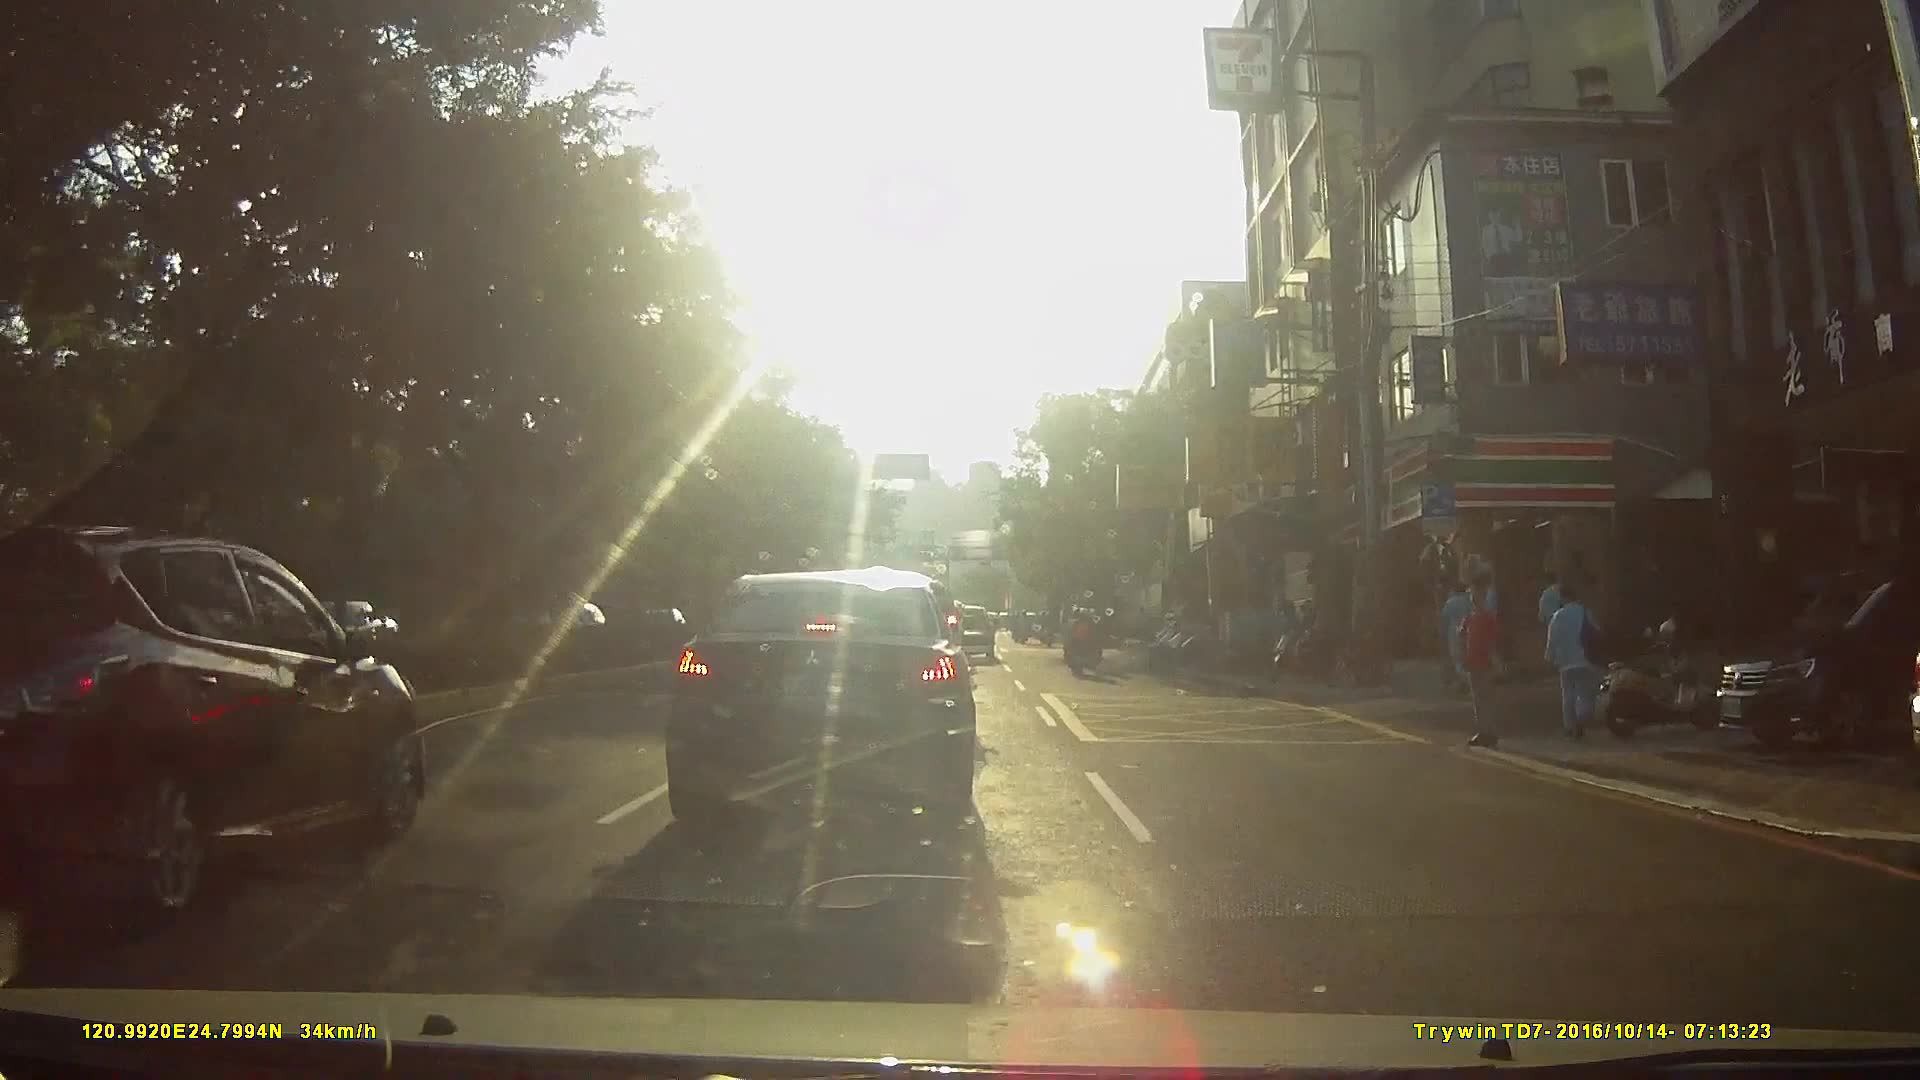pedestrian: (1540, 585, 1604, 739), (1459, 591, 1510, 754), (1441, 579, 1480, 683)
rider: (1062, 609, 1100, 682), (1062, 606, 1088, 659)
vehicle: (1, 521, 434, 927), (665, 572, 994, 812), (1703, 566, 1920, 759)
